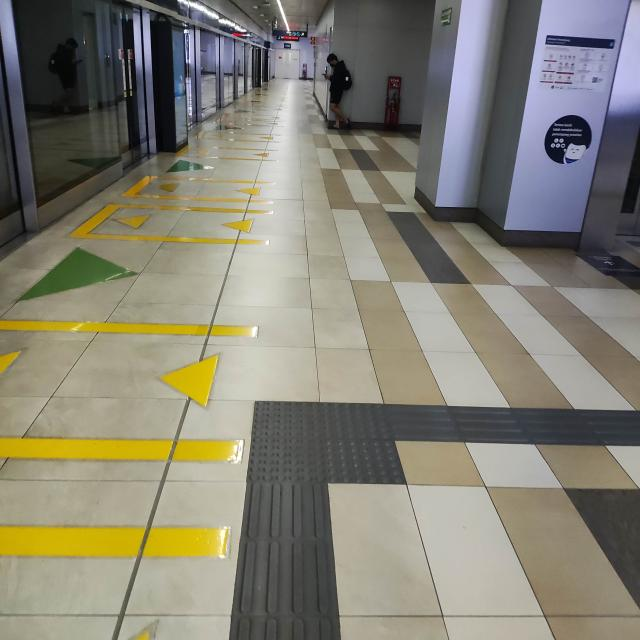kanan: (223, 367, 518, 512)
